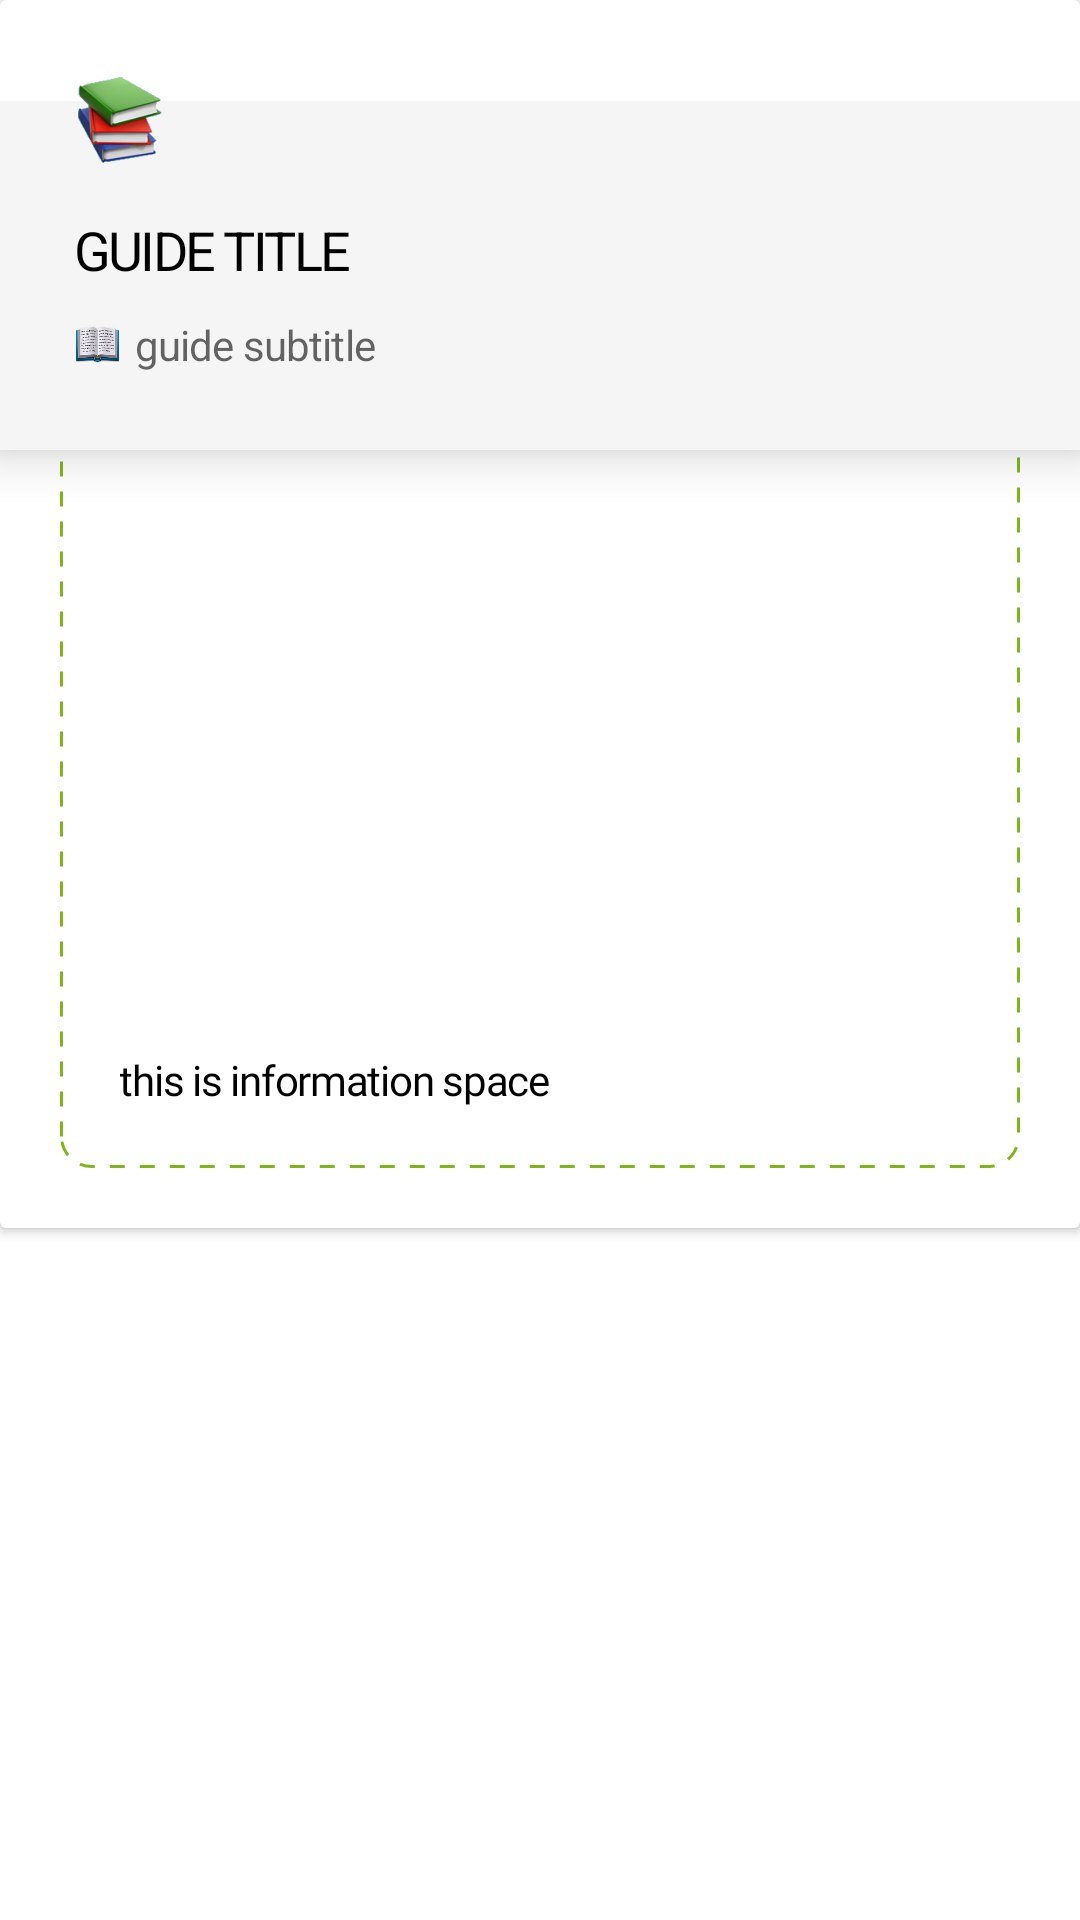

Where to tap for icons on this 1080px x 1920px app screen, as point (x, y):
book: point (120, 120)
book open: point (97, 345)
